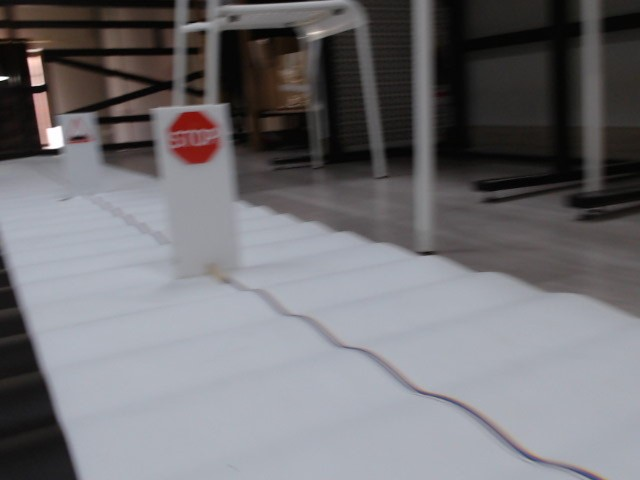Nerov: (67, 118, 94, 144)
Stop: (168, 112, 219, 165)
